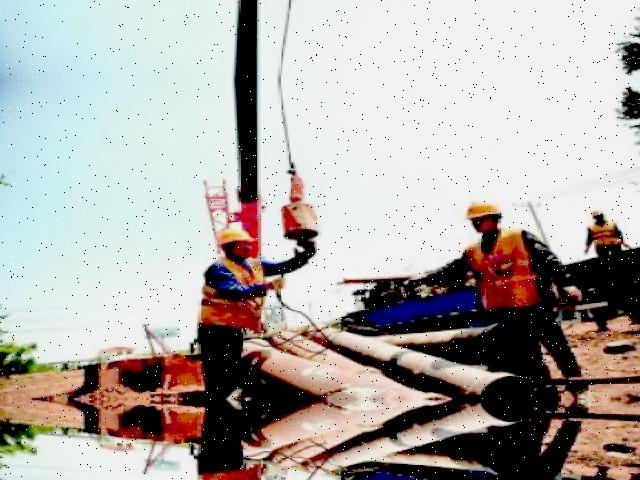Helmet: (208, 222, 257, 253), (459, 194, 504, 225)
